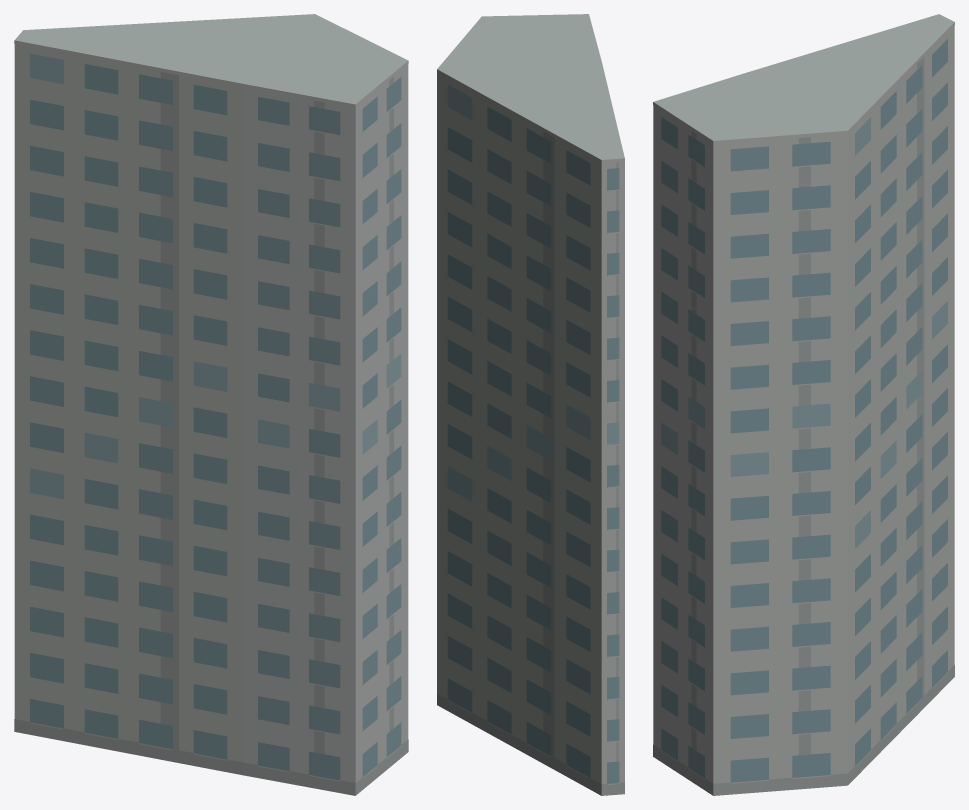
The model's file is survey-upis-32953946.glb.
3 views of the same model, side by side, from view 1: azimuth 30°, elevation 25°; view 2: azimuth 150°, elevation 25°; view 3: azimuth 270°, elevation 25° (orthographic). The views are drawn at different scales.
Visible parts, largest first — view 1: survey-upis-32953946.tmp; view 2: survey-upis-32953946.tmp; view 3: survey-upis-32953946.tmp.
Boxes of the visible parts, box(x1,y1,x2,y2) form: survey-upis-32953946.tmp: box(14, 14, 408, 795); survey-upis-32953946.tmp: box(437, 14, 624, 795); survey-upis-32953946.tmp: box(653, 14, 954, 795).
Bounding box in the file's own units: 19.04 × 45.75 × 19.11.
